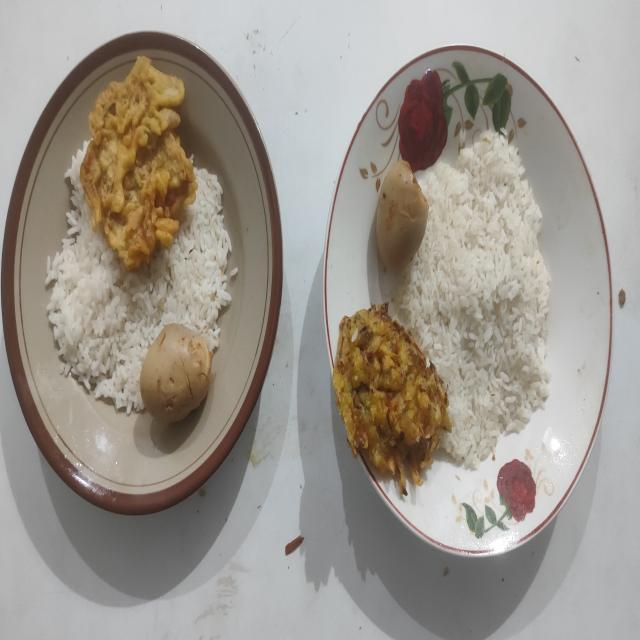nasi_putih: (394, 130, 550, 470), (45, 142, 232, 413)
